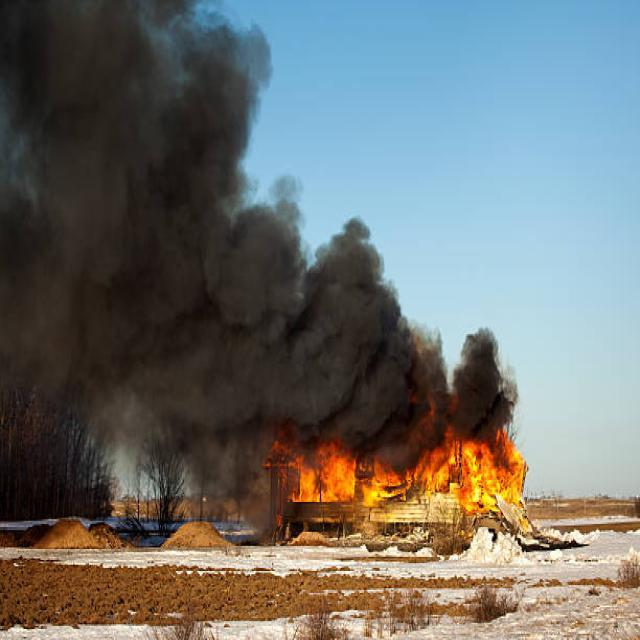Fire: (266, 422, 532, 514)
Smoke: (2, 3, 278, 401), (274, 212, 516, 442)
